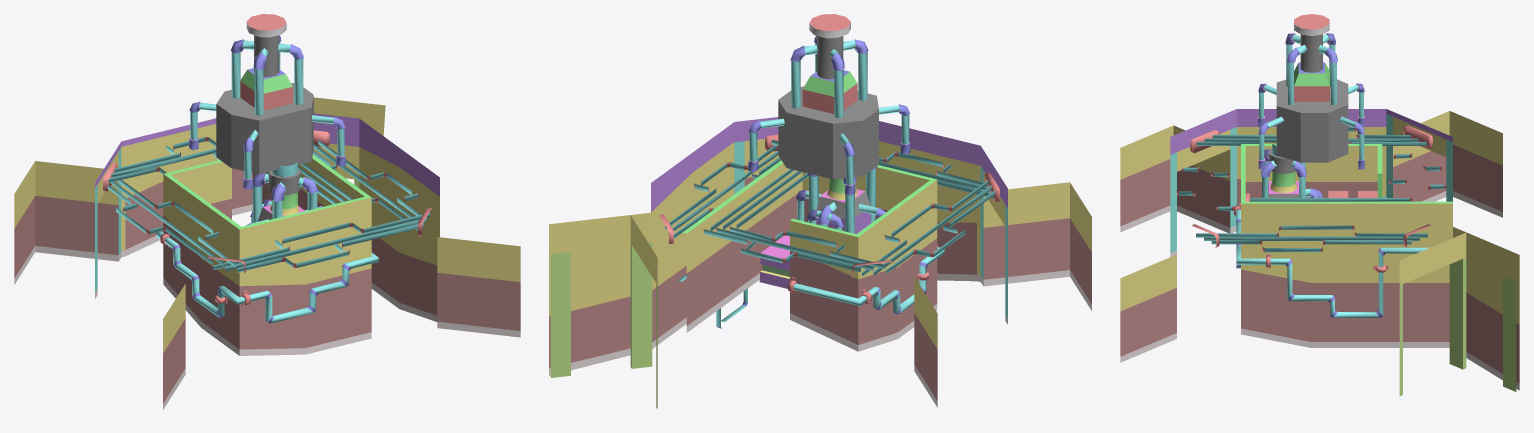
The model's file is L2fortress_02_s__fort02_engin_in.gltf.
The picture shows the model from 3 angles, left to right: view 1: azimuth 30°, elevation 25°; view 2: azimuth 150°, elevation 25°; view 3: azimuth 270°, elevation 25°; orthographic projection. The views are drawn at different scales.
Parts seen in each view (by area): view 1: fort02_engin_in; view 2: fort02_engin_in; view 3: fort02_engin_in.
Boxes of the visible parts, box(x1,y1,x2,y2) form: fort02_engin_in: box(14, 14, 520, 409); fort02_engin_in: box(549, 14, 1091, 408); fort02_engin_in: box(1120, 14, 1519, 395).
Bounding box in the file's own units: 8.47 × 7.23 × 8.47.
